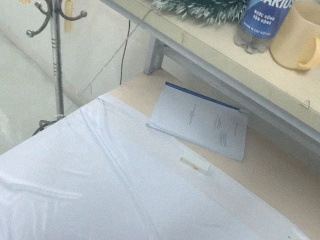bottle: (233, 1, 295, 54)
cup: (269, 1, 320, 72)
